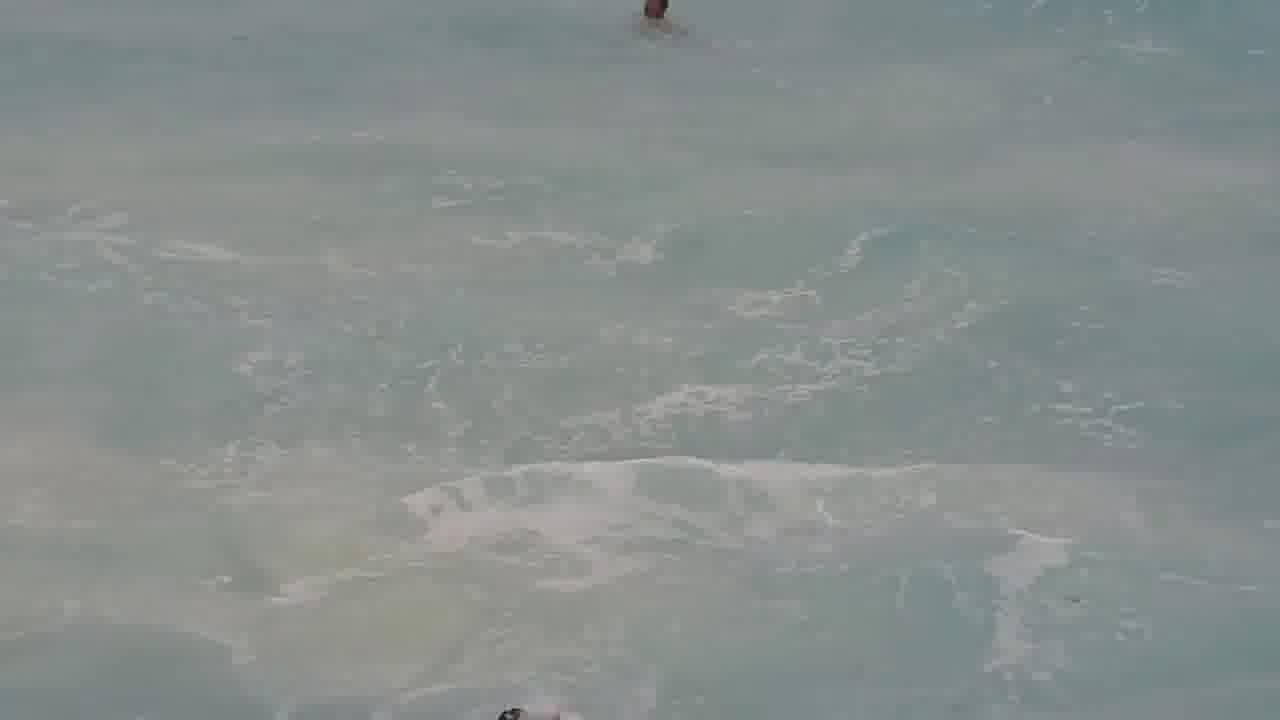swimmer: (632, 3, 691, 42)
